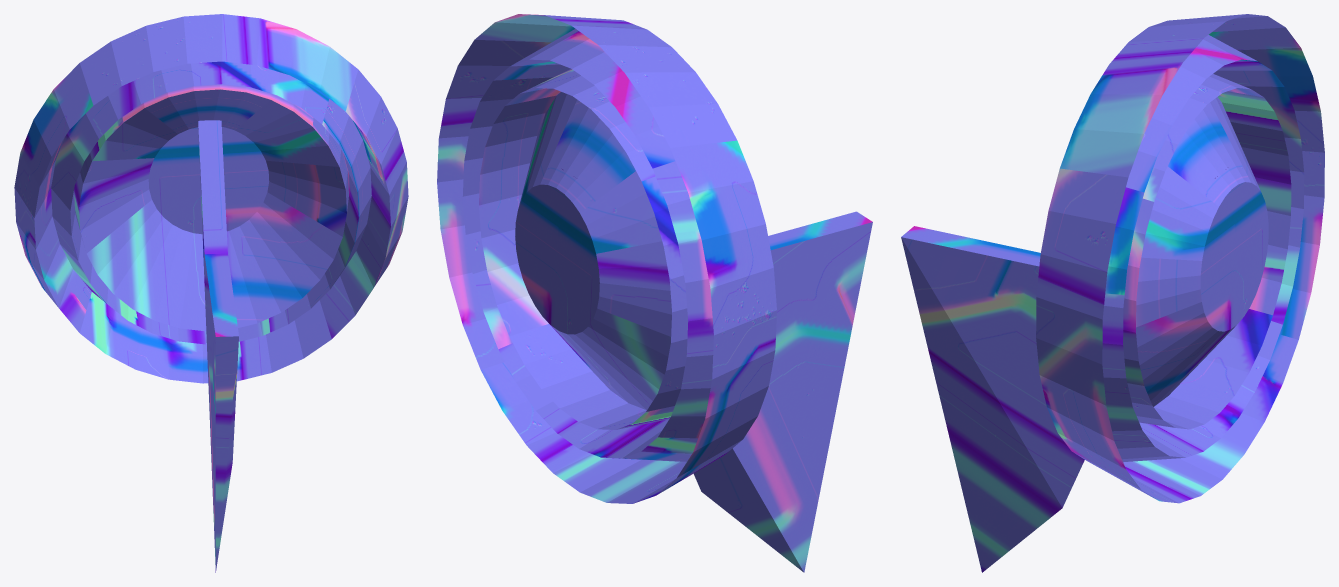
The model's file is radar13.obj.
3 views of the same model, side by side, from view 1: azimuth 30°, elevation 25°; view 2: azimuth 150°, elevation 25°; view 3: azimuth 270°, elevation 25° (orthographic). The views are drawn at different scales.
Visible parts, largest first — view 1: radar; view 2: radar; view 3: radar.
Boxes of the visible parts, x1,y1,x2,y2 form: radar: (14, 14, 408, 572); radar: (437, 14, 872, 572); radar: (901, 14, 1324, 572).
Bounding box in the file's own units: 0.926 × 1.3 × 0.8422.
